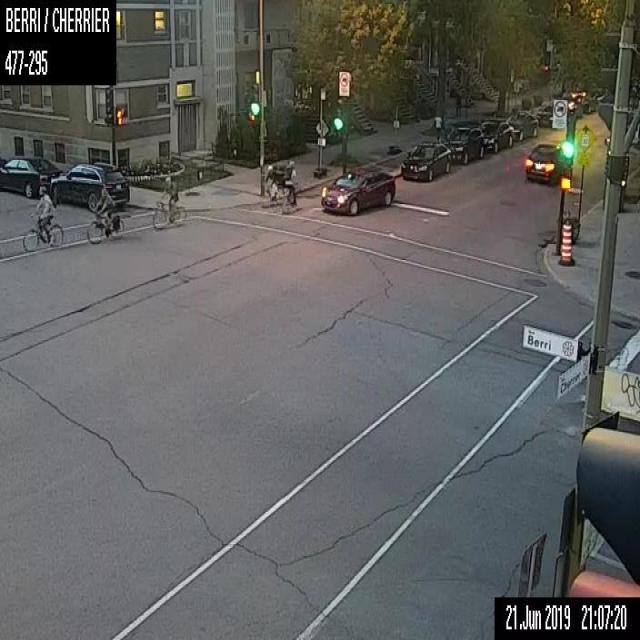construction: (560, 218, 571, 265)
cyclist: (21, 186, 63, 249), (86, 188, 123, 244), (151, 173, 185, 229), (276, 160, 298, 214), (263, 159, 284, 213)
pedestrian: (454, 86, 462, 118), (434, 112, 442, 139)
vehicle: (49, 161, 129, 209), (320, 165, 395, 212), (0, 156, 62, 196), (400, 139, 451, 180), (524, 142, 564, 184), (443, 125, 482, 165), (479, 118, 512, 153), (505, 110, 537, 141), (562, 93, 582, 117), (536, 100, 553, 126), (580, 91, 596, 114)
